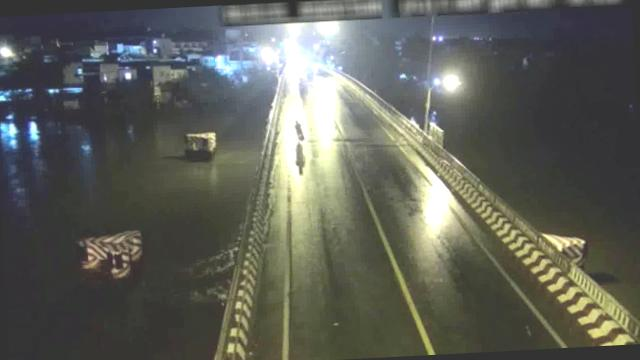Bike: (292, 118, 305, 142)
